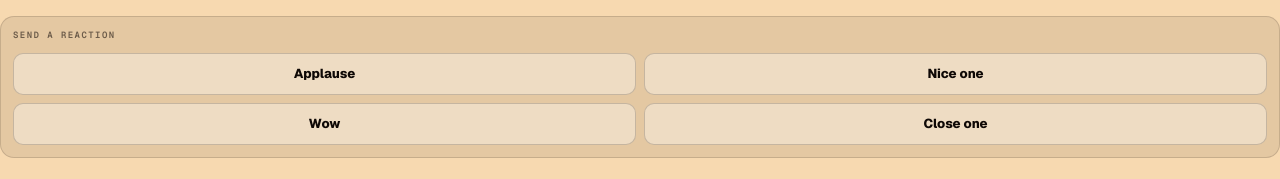
Test: RoomMagicReactionControls › keeps duplicate responses in the sent state
Step 1. Click the button "Applause" → (324, 74), box [13, 52, 636, 94]
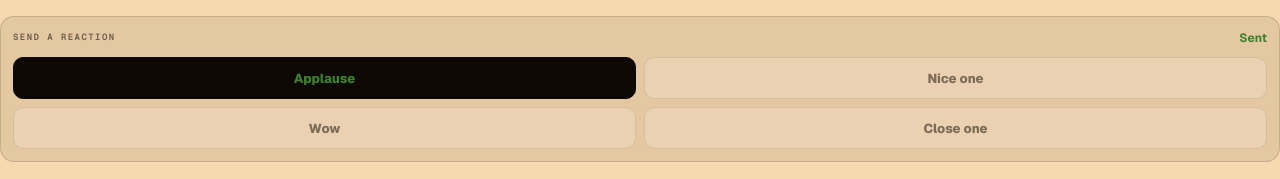
Now the text "Sent" is shown, box [1239, 30, 1267, 46]
